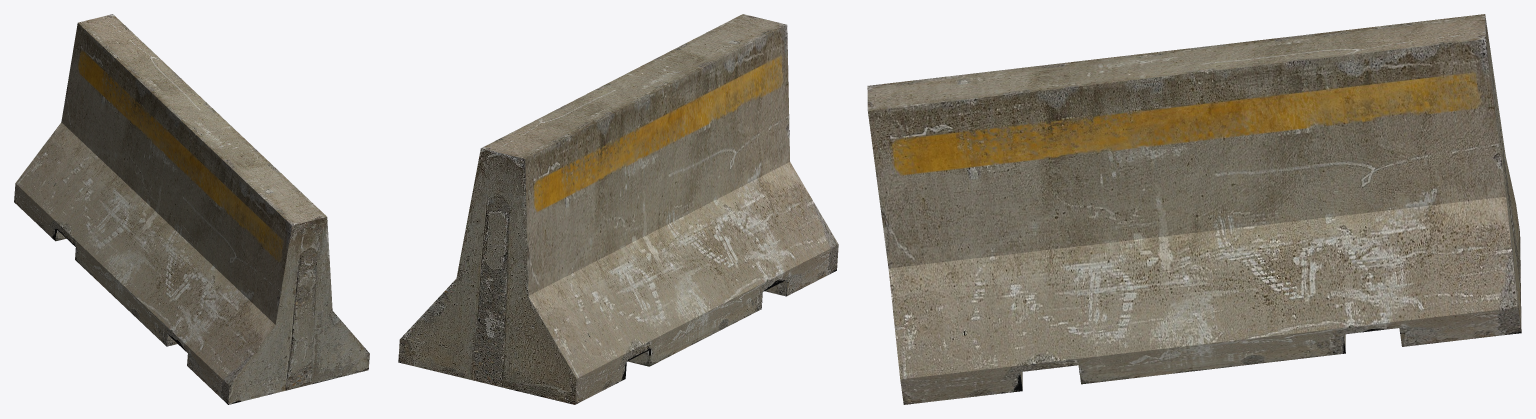
File: Road_block_v1 (2).glb
3 views of the same model, side by side, from view 1: azimuth 30°, elevation 25°; view 2: azimuth 150°, elevation 25°; view 3: azimuth 270°, elevation 25° (orthographic). The views are drawn at different scales.
Parts seen in each view (by area): view 1: Road_block_v1 (2); view 2: Road_block_v1 (2); view 3: Road_block_v1 (2).
Part boxes in pixels (x1,y1,x2,y2): Road_block_v1 (2): (14, 14, 369, 404); Road_block_v1 (2): (398, 14, 838, 404); Road_block_v1 (2): (867, 14, 1521, 404).
Size of the model in its own units: 0.9085 by 1.36 by 2.47.
1 material, 1 textured.
